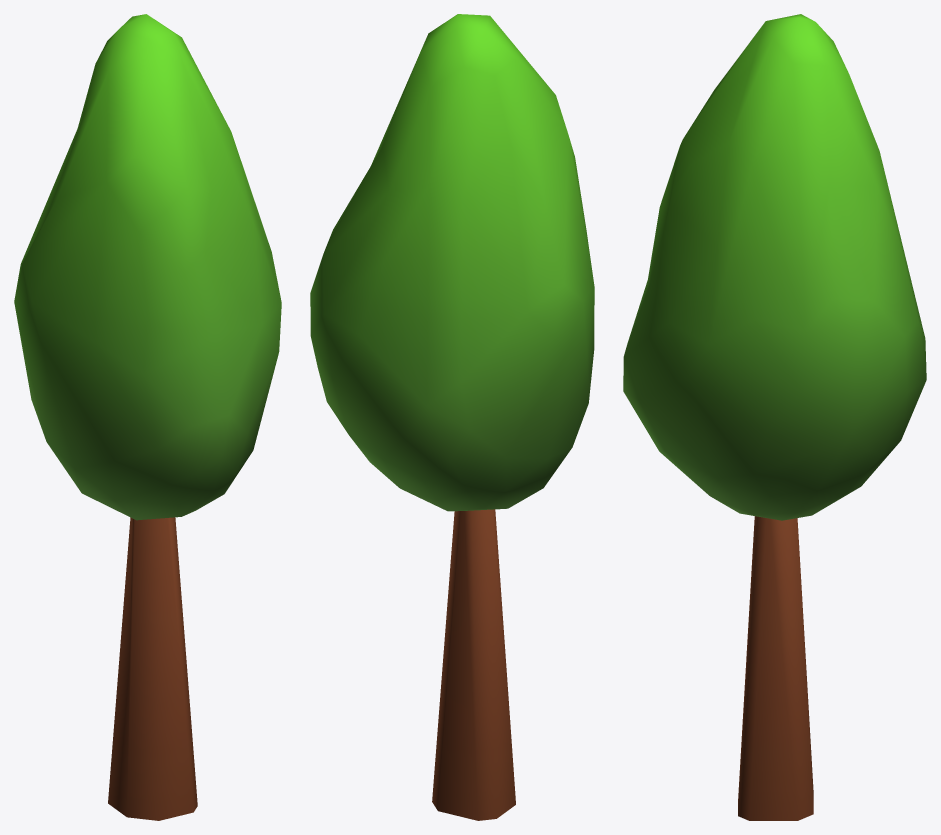
Rendered from thintreenew.fbx.
3 views of the same model, side by side, from view 1: azimuth 30°, elevation 25°; view 2: azimuth 150°, elevation 25°; view 3: azimuth 270°, elevation 25° (orthographic).
Visible parts, largest first — view 1: thintree; view 2: thintree; view 3: thintree.
Part boxes in pixels (x1,y1,x2,y2): thintree: [14, 14, 281, 820]; thintree: [310, 14, 594, 820]; thintree: [623, 14, 926, 820].
Bounding box in the file's own units: 275 × 851 × 296.
